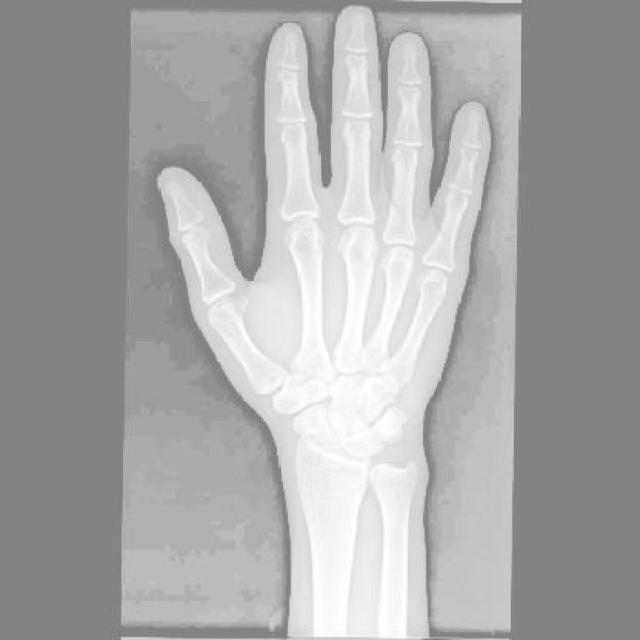Fracture: (325, 377, 365, 422)
